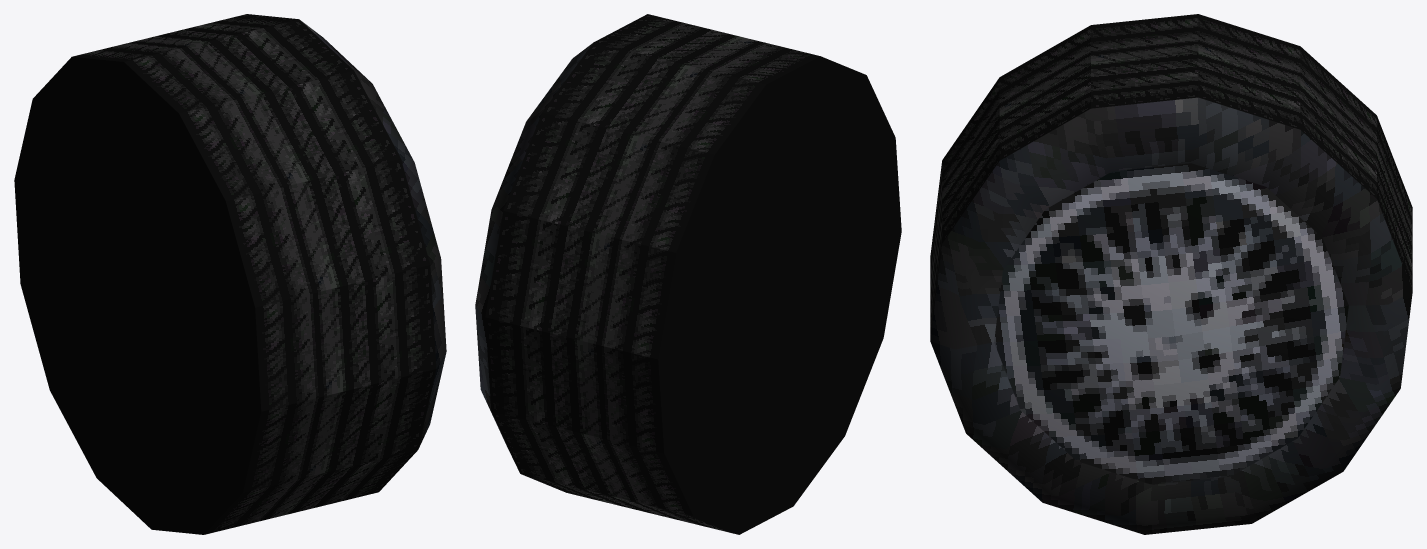
The model's file is Sport_Wheel.fbx.
3 views of the same model, side by side, from view 1: azimuth 30°, elevation 25°; view 2: azimuth 150°, elevation 25°; view 3: azimuth 270°, elevation 25° (orthographic). The views are drawn at different scales.
Parts seen in each view (by area): view 1: wheel_sport_l0; view 2: wheel_sport_l0; view 3: wheel_sport_l0.
Boxes of the visible parts, bbox=[...] form: wheel_sport_l0: bbox=[14, 14, 446, 534]; wheel_sport_l0: bbox=[475, 14, 901, 534]; wheel_sport_l0: bbox=[930, 14, 1412, 534].
Size of the model in its own units: 53.72 by 99.31 by 99.28.
Materials: 3 (2 with a texture image).
